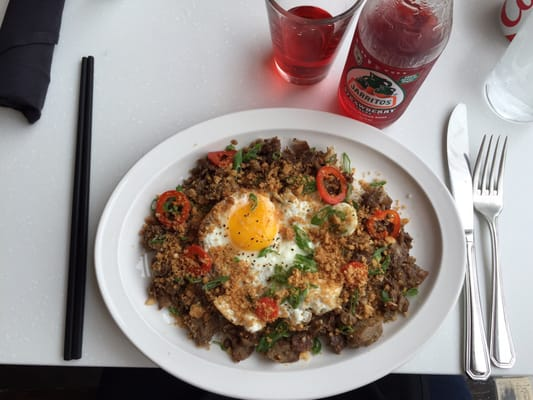pizza: (265, 0, 367, 86)
